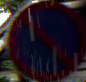No Stopping: (4, 0, 85, 80)
